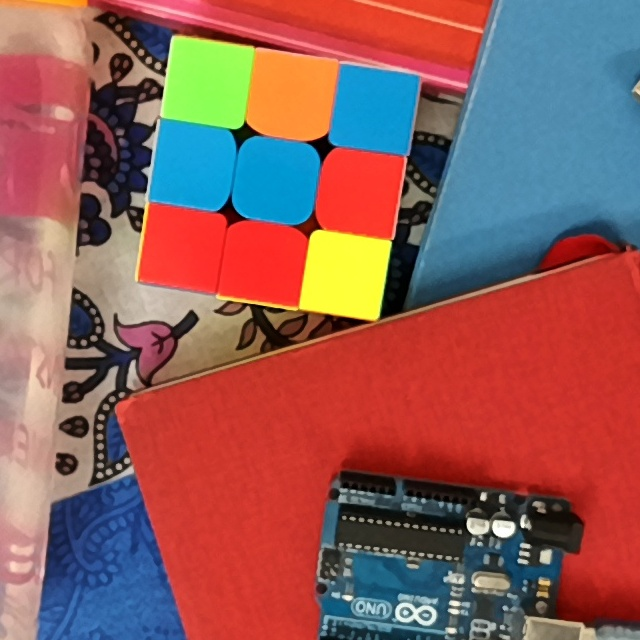tile: (148, 214, 216, 281), (256, 64, 325, 129), (174, 48, 241, 114), (160, 133, 225, 199), (329, 158, 393, 224), (344, 77, 408, 142), (231, 233, 297, 296), (245, 148, 309, 212), (315, 243, 376, 306)
